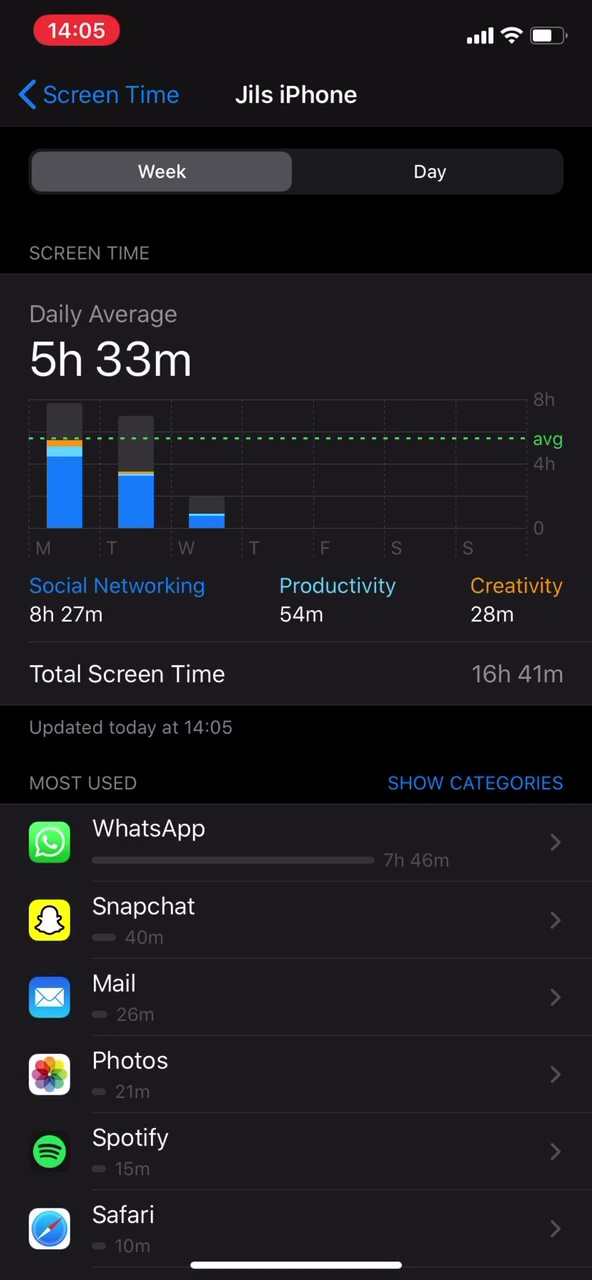use_over: (18, 566, 576, 708)
